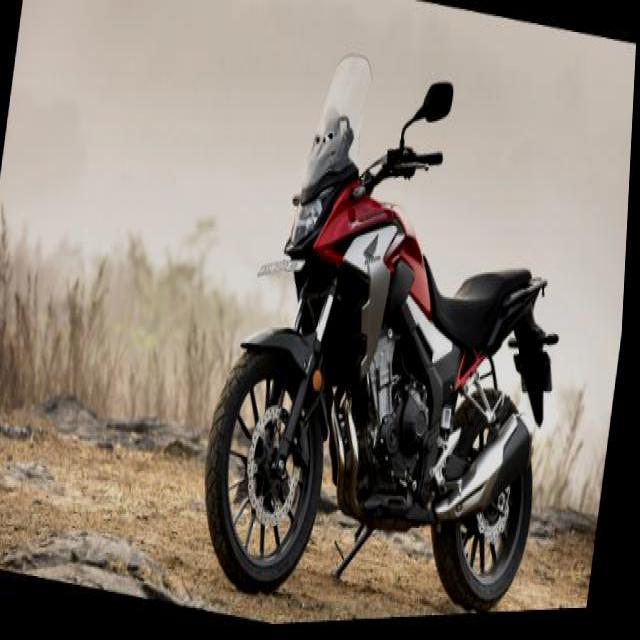CB500X: (194, 21, 592, 630)
